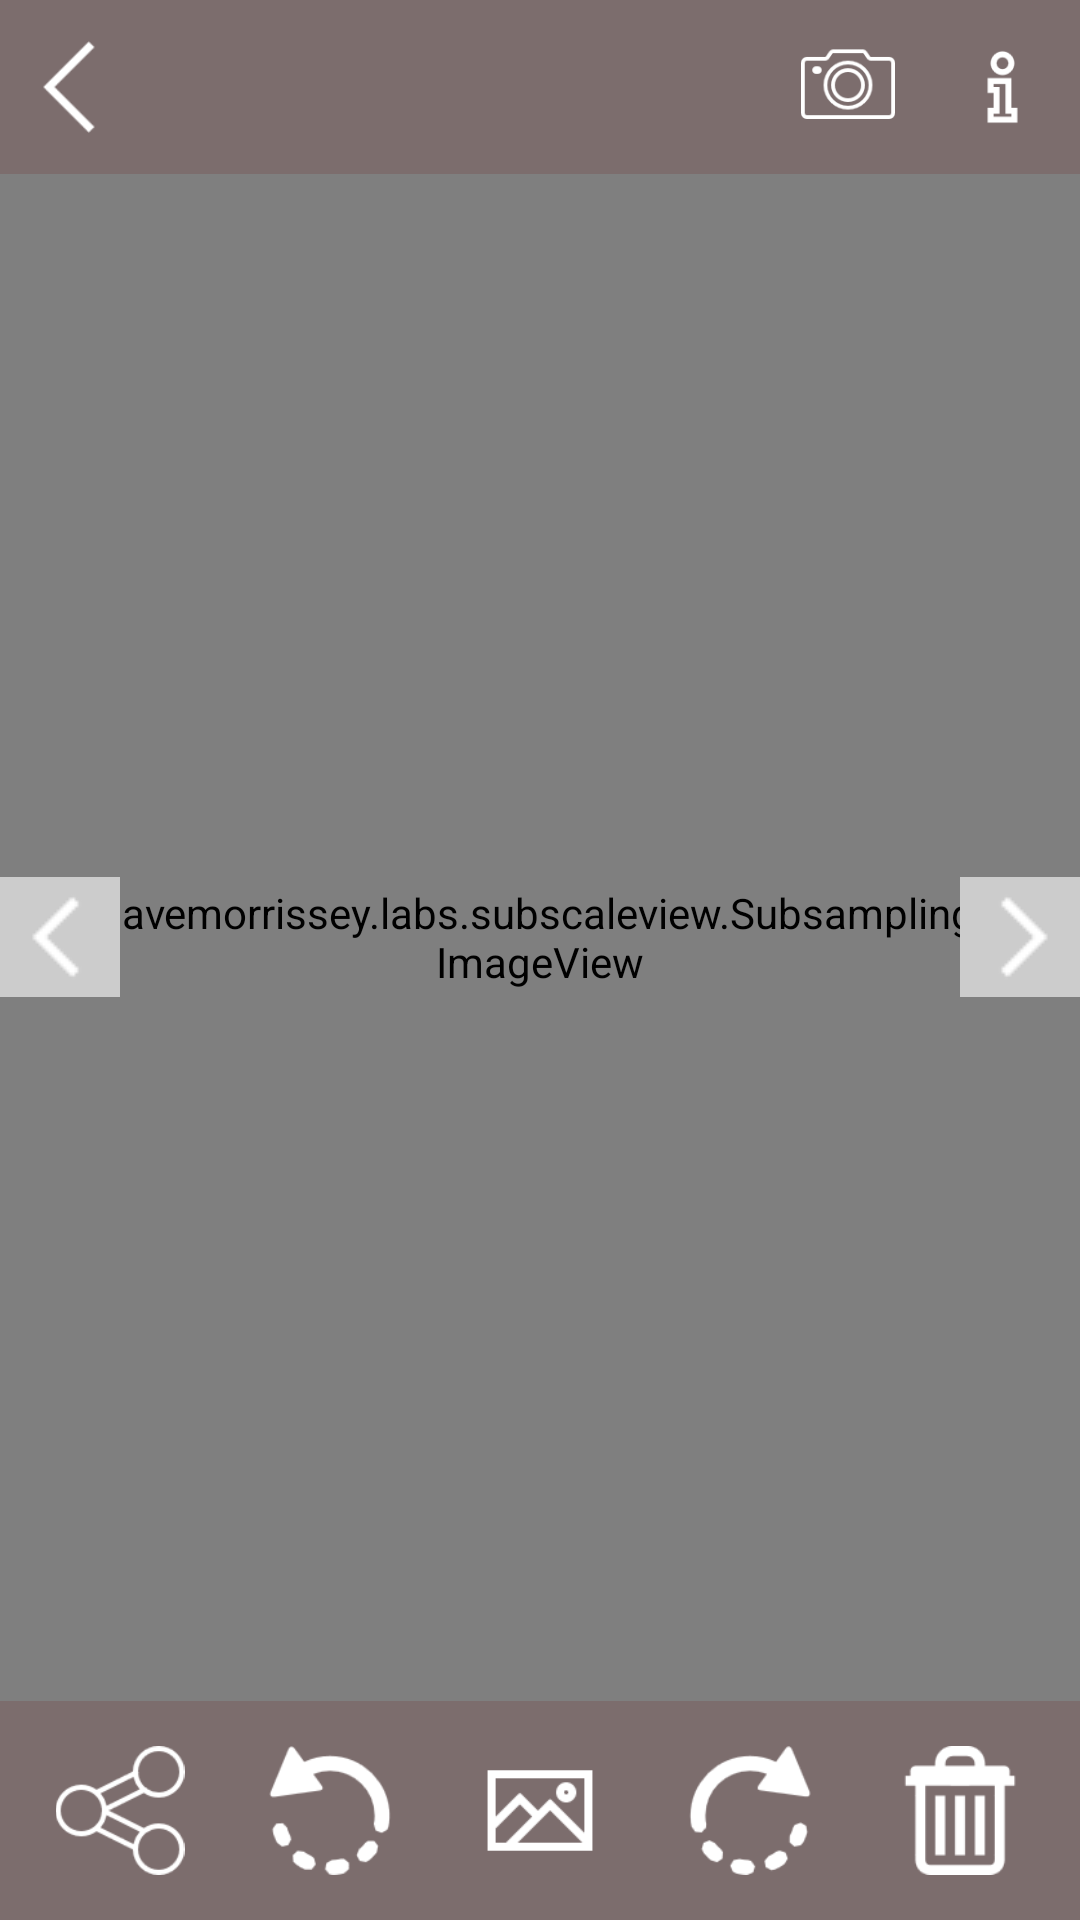

Icons on this 1080×1920 Android screen, each with its box as [left=x1, top=y1, right=x2, bottom=y2]:
back butt: [left=0, top=877, right=120, bottom=997]
camera butt: [left=801, top=49, right=895, bottom=119]
delete butt: [left=905, top=1746, right=1015, bottom=1875]
exit butt: [left=43, top=41, right=95, bottom=133]
info butt: [left=987, top=51, right=1018, bottom=123]
next butt: [left=960, top=877, right=1080, bottom=997]
rotate left: [left=270, top=1746, right=390, bottom=1875]
rotate right: [left=690, top=1746, right=811, bottom=1875]
share butt: [left=56, top=1746, right=185, bottom=1875]
